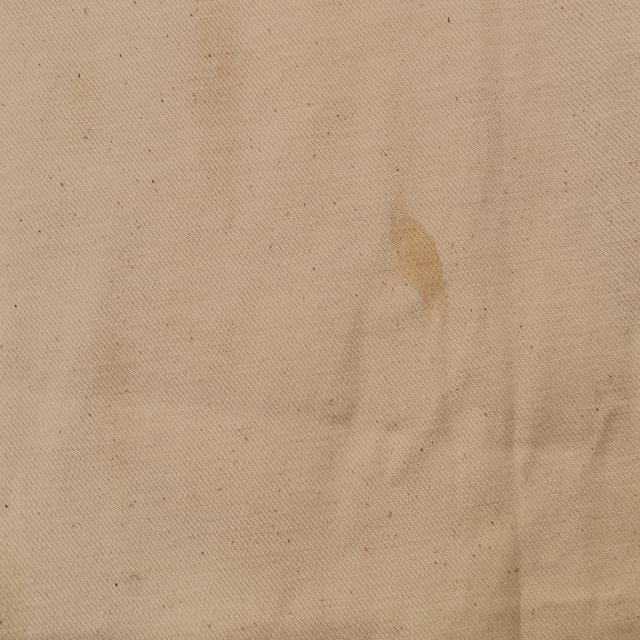taaaches: (382, 181, 453, 342)
